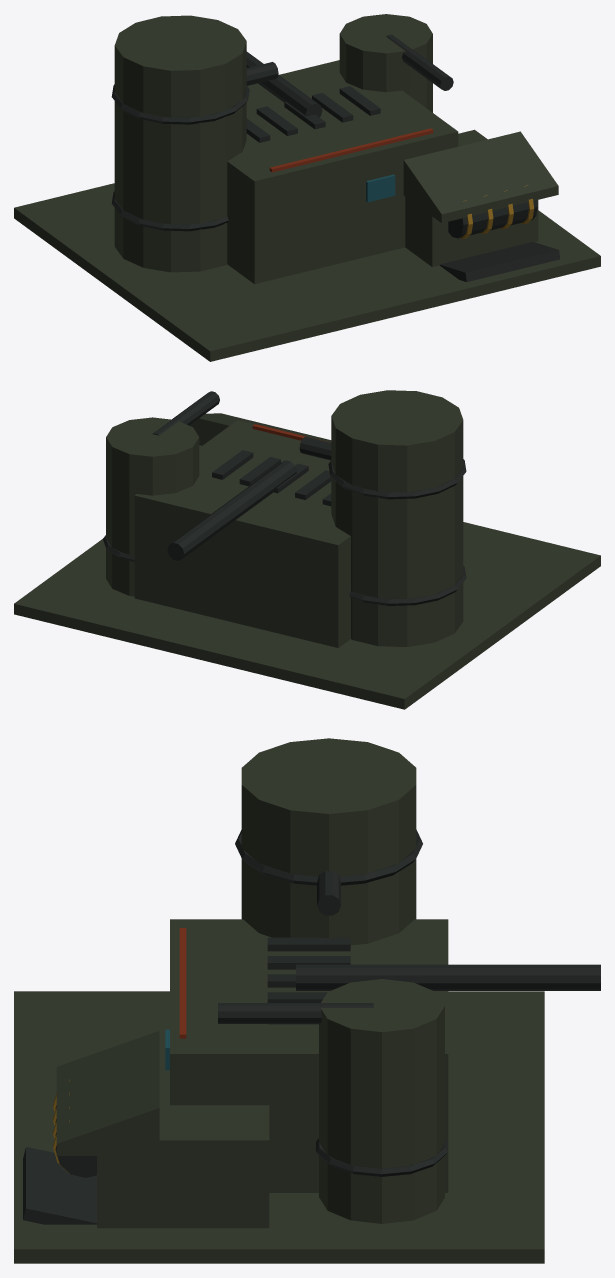
The model's file is Bastion_Refinery_Articulated.glb.
The picture shows the model from 3 angles, top to bottom: view 1: azimuth 30°, elevation 25°; view 2: azimuth 150°, elevation 25°; view 3: azimuth 270°, elevation 25°; orthographic projection. The views are drawn at different scales.
Parts seen in each view (by area): view 1: Base, UnloaderSpin; view 2: Base; view 3: Base, UnloaderSpin.
Boxes of the visible parts, x1,y1,x2,y2 form: Base: (14,14,600,361); UnloaderSpin: (448,185,537,238); Base: (14,390,600,709); Base: (14,738,600,1263); UnloaderSpin: (53,1079,96,1177).
Bounding box in the file's own units: 9.2 × 4.78 × 8.85.
Materials: 1 (1 with a texture image).
